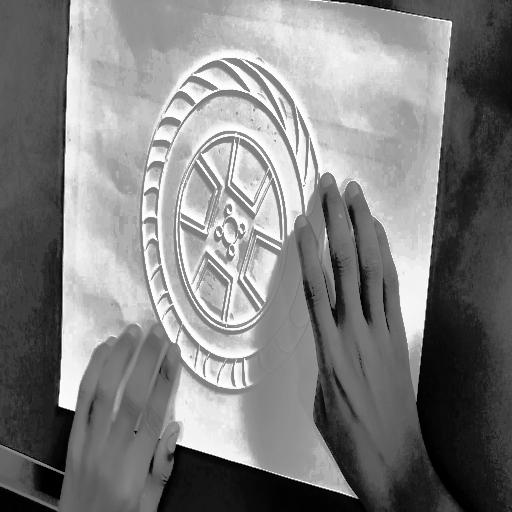bottom_left: (55, 395, 63, 413)
bottom_right: (396, 490, 404, 505)
tire: (127, 25, 346, 423)
top_right: (448, 12, 457, 28)
